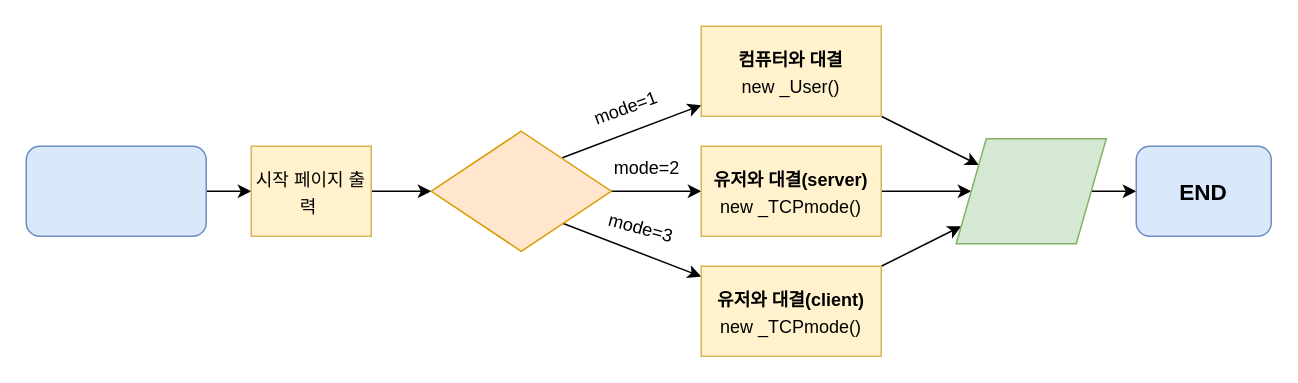
This 1298x383 diagram has some shape labels left out. Here are the shapes that lost their labels. From the top down, the centre of each, then its label:
At (x=115, y=190): "Start new _StartPage".
At (x=520, y=190): "게임 모드(int mode) 입력".
At (x=1030, y=190): "엔딩 페이지 출력".
